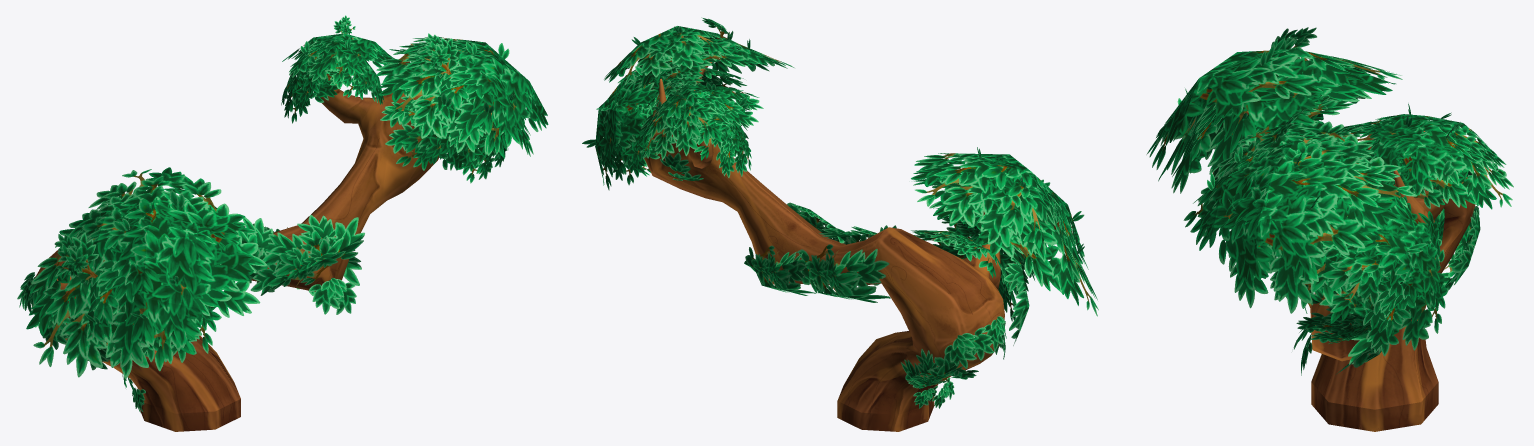
File: 3_Verde_Oscuro.fbx
The picture shows the model from 3 angles, left to right: view 1: azimuth 30°, elevation 25°; view 2: azimuth 150°, elevation 25°; view 3: azimuth 270°, elevation 25°; orthographic projection. The views are drawn at different scales.
Parts seen in each view (by area): view 1: 3_Verde_Oscuro; view 2: 3_Verde_Oscuro; view 3: 3_Verde_Oscuro.
Boxes of the visible parts, x1,y1,x2,y2 form: 3_Verde_Oscuro: (17, 15, 548, 431); 3_Verde_Oscuro: (582, 17, 1098, 431); 3_Verde_Oscuro: (1146, 27, 1513, 431).
Bounding box in the file's own units: 755 × 493 × 406.
